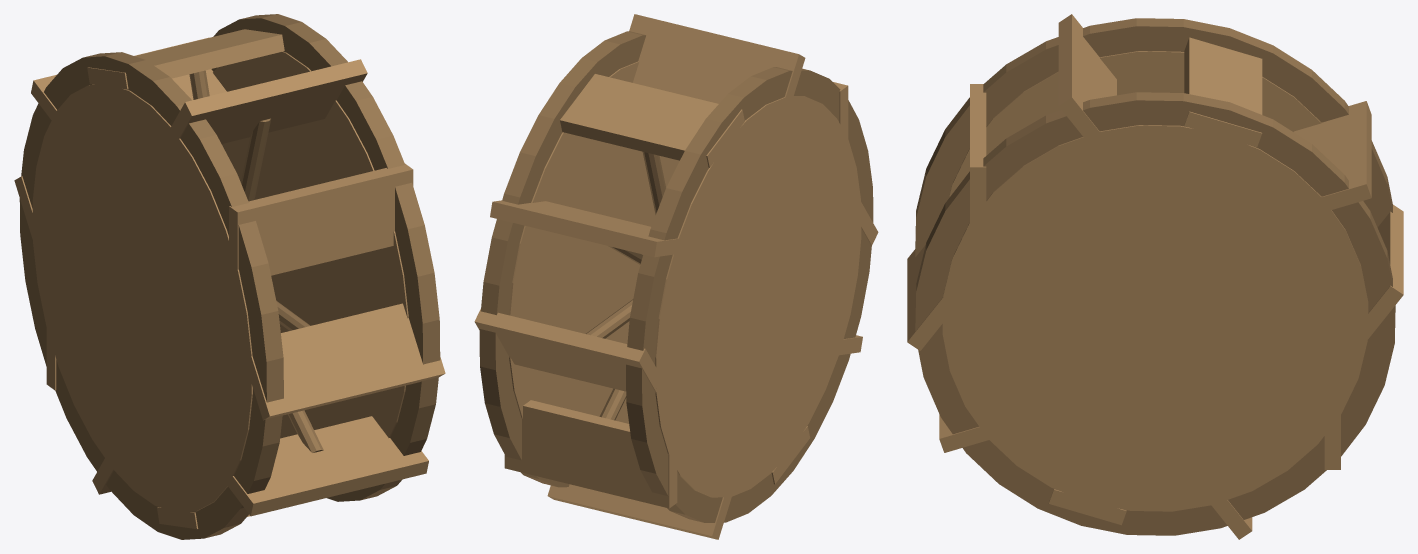
File: hydro_rotor2.obj
The picture shows the model from 3 angles, left to right: view 1: azimuth 30°, elevation 25°; view 2: azimuth 150°, elevation 25°; view 3: azimuth 270°, elevation 25°; orthographic projection. The views are drawn at different scales.
Bounding box in the file's own units: 0.36 × 0.8917 × 0.9066.
1 material, 1 textured.
